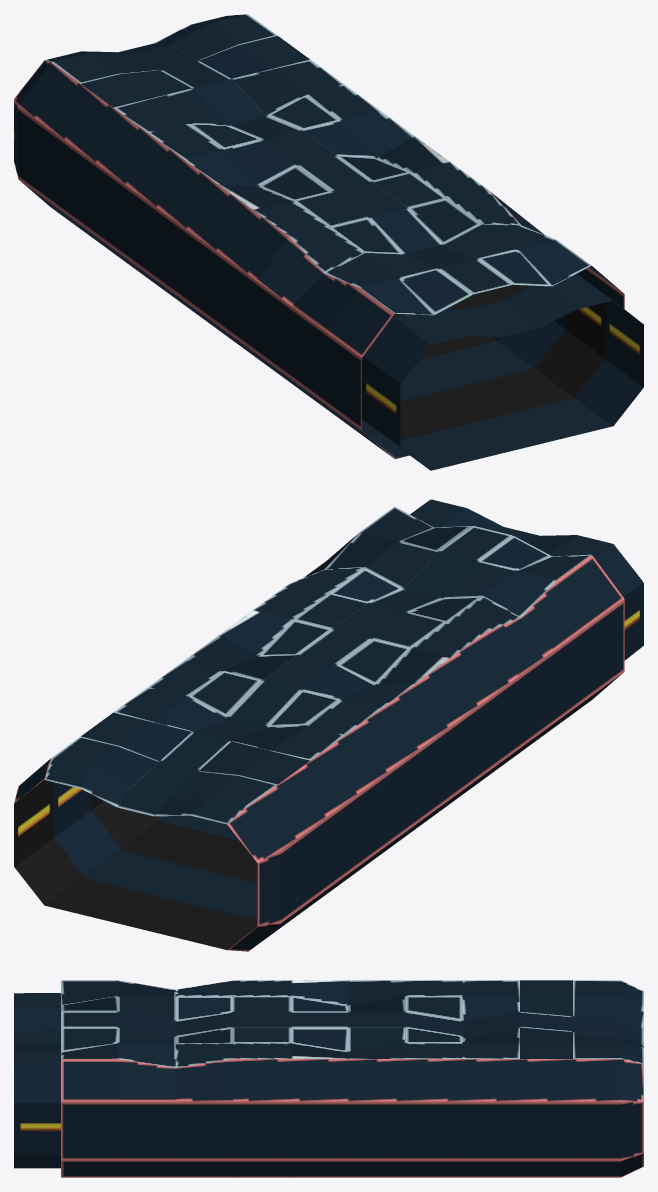
File: tunnel.obj
The picture shows the model from 3 angles, top to bottom: view 1: azimuth 30°, elevation 25°; view 2: azimuth 150°, elevation 25°; view 3: azimuth 270°, elevation 25°; orthographic projection. The views are drawn at different scales.
Parts seen in each view (by area): view 1: beveled_cuboid; view 2: beveled_cuboid; view 3: beveled_cuboid.
Boxes of the visible parts, x1,y1,x2,y2 form: beveled_cuboid: (14, 14, 643, 470); beveled_cuboid: (14, 499, 643, 951); beveled_cuboid: (14, 980, 643, 1177).
Size of the model in its own units: 6.38 by 3.38 by 16.24.
